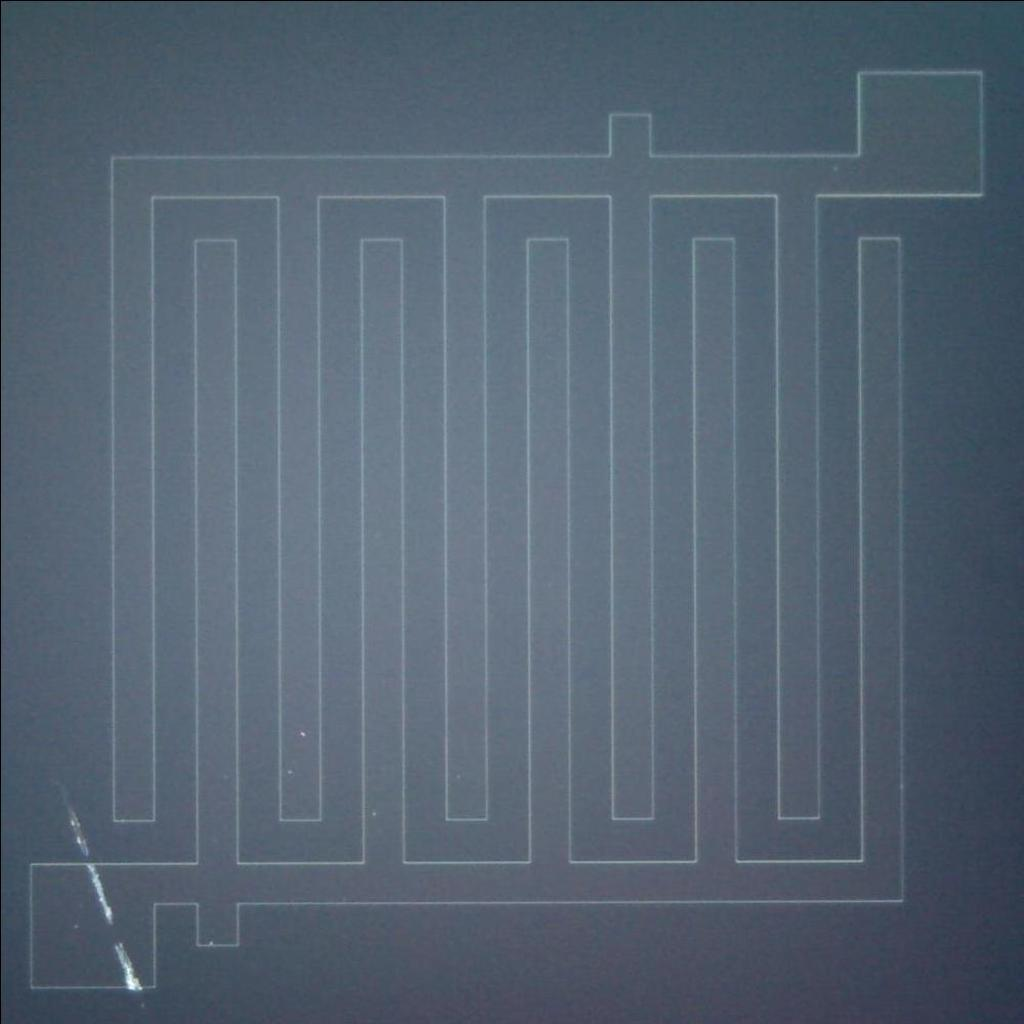budge circuit: (593, 104, 669, 166), (185, 890, 249, 952)
dot: (292, 723, 313, 744)
scratch: (63, 798, 118, 928), (113, 941, 141, 989)
